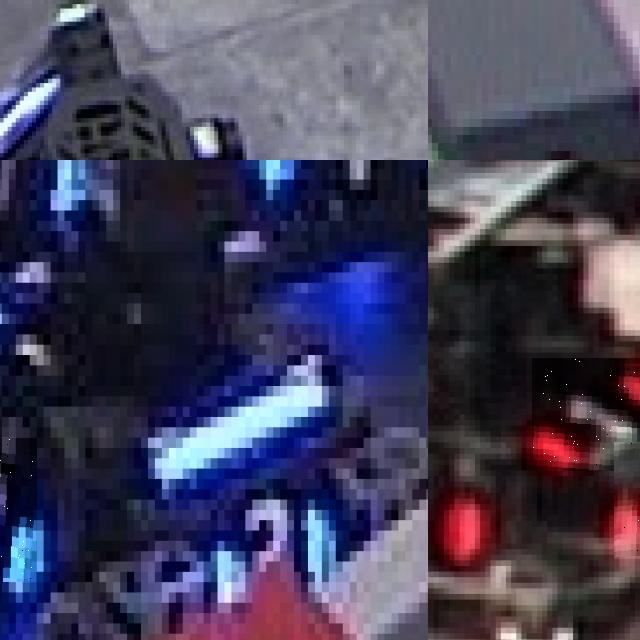B3: (0, 437, 36, 582)
R1: (531, 358, 640, 470), (428, 453, 485, 571), (614, 442, 640, 560)
